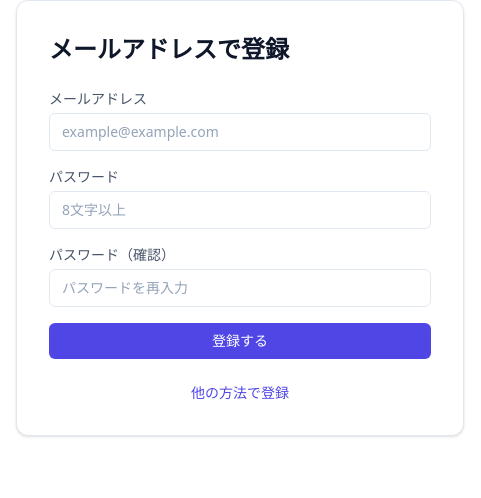
RegisterEmailForm › パスワードのバリデーションエラー表示
The width and height of the screenshot is (481, 498).
In the field labelled "メールアドレス": (240, 132) [49,113,431,151], type "test@example.com"
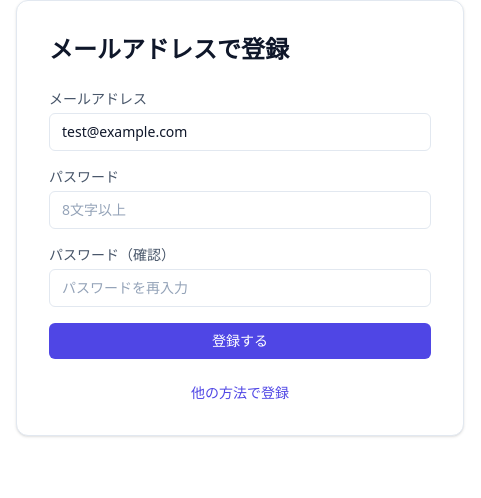
In the password field labelled "パスワード": (240, 210) [49,191,431,229], type "short"
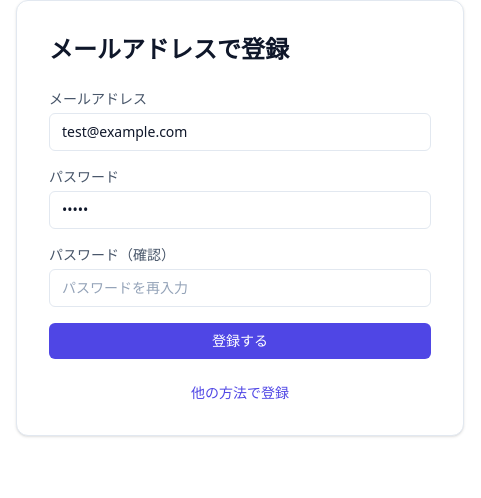
In the password field labelled "パスワード（確認）": (240, 288) [49,269,431,307], type "short"
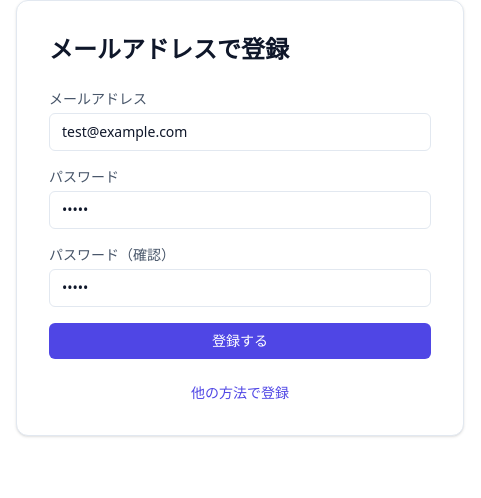
Submit the text "登録する", box [49,89,431,359]
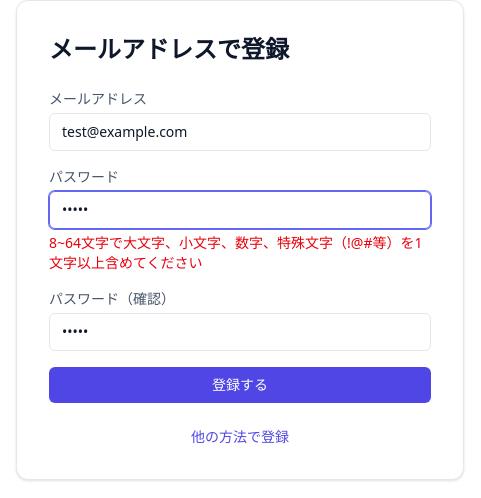
Expected: the text "8~64文字で大文字、小文字、数字、特殊文字（!@#等）を1文字以上含めてください" is shown, [49,233,431,273]
